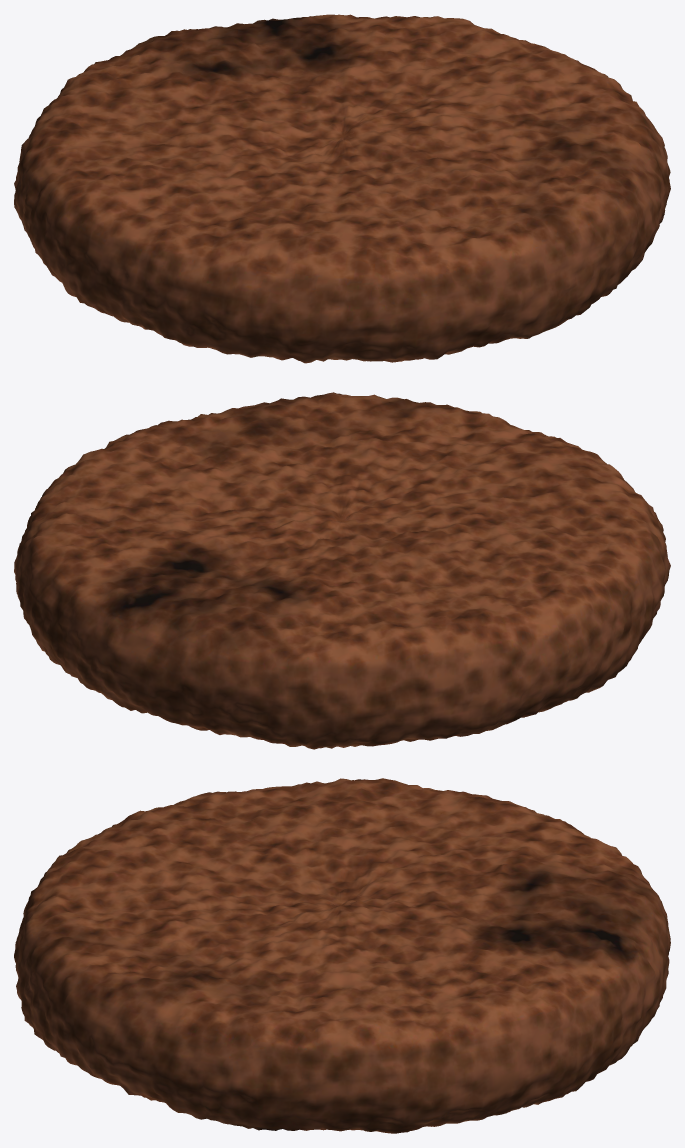
Rendered from patty_angus_250g.glb.
3 views of the same model, one above another, from view 1: azimuth 30°, elevation 25°; view 2: azimuth 150°, elevation 25°; view 3: azimuth 270°, elevation 25° (orthographic).
Parts seen in each view (by area): view 1: patty_angus_250g_web; view 2: patty_angus_250g_web; view 3: patty_angus_250g_web.
Boxes of the visible parts, <box> form: patty_angus_250g_web: <box>14,14,670,363</box>; patty_angus_250g_web: <box>14,392,670,749</box>; patty_angus_250g_web: <box>14,778,670,1133</box>.
Bounding box in the file's own units: 0.1159 × 0.0244 × 0.1155.
1 material, 1 textured.
